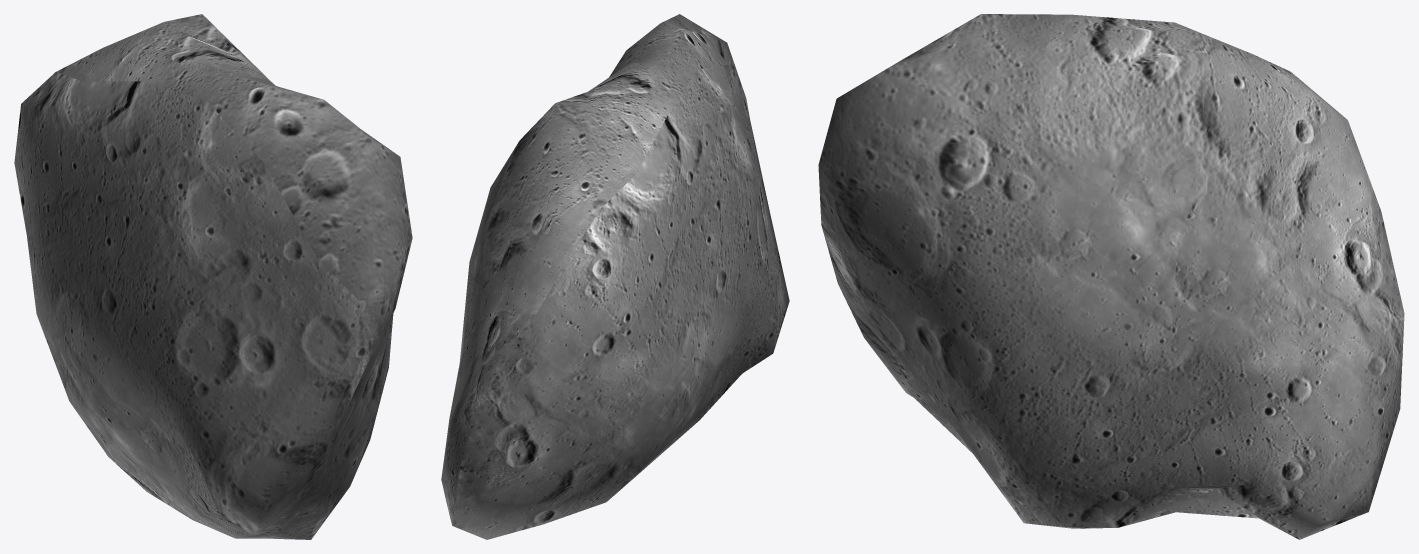
File: asteroid01.FBX
3 renders of one model, left to right at view 1: azimuth 30°, elevation 25°; view 2: azimuth 150°, elevation 25°; view 3: azimuth 270°, elevation 25°, orthographic. The views are drawn at different scales.
Visible parts, largest first — view 1: Asteroid001; view 2: Asteroid001; view 3: Asteroid001.
Part boxes in pixels (left/top/right/bottom): Asteroid001: left=14, top=14, right=412, bottom=539; Asteroid001: left=441, top=14, right=789, bottom=539; Asteroid001: left=818, top=14, right=1404, bottom=539.
Size of the model in its own units: 65.86 by 124 by 134.
1 material, 1 textured.
